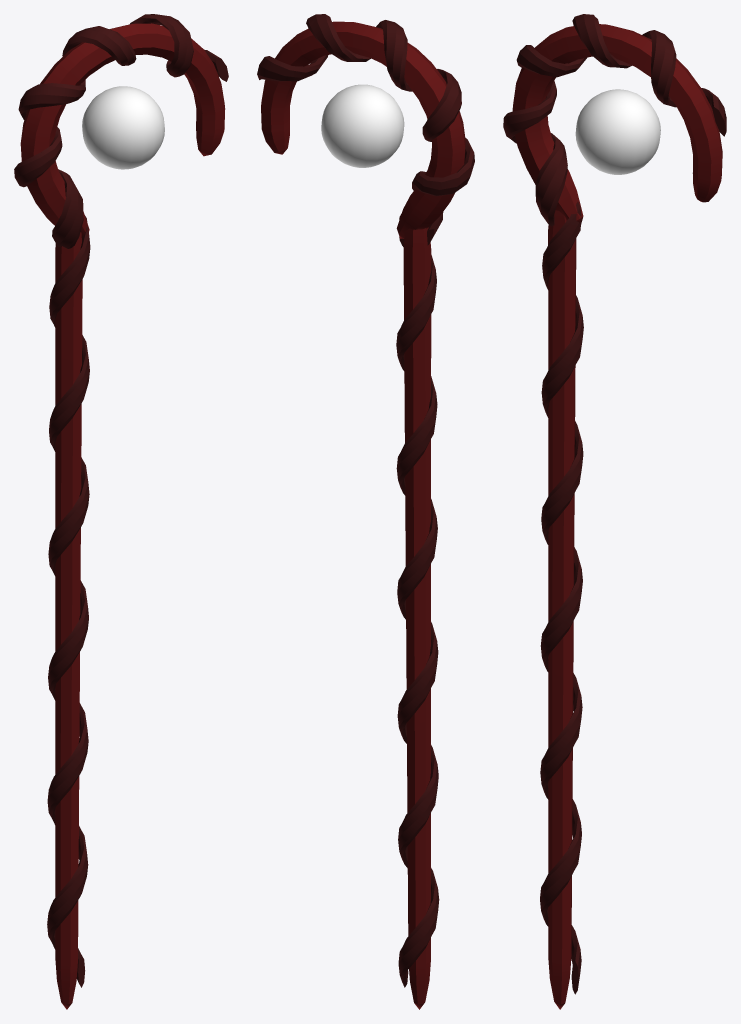
Rendered from wand.obj.
3 views of the same model, side by side, from view 1: azimuth 30°, elevation 25°; view 2: azimuth 150°, elevation 25°; view 3: azimuth 330°, elevation 25° (orthographic). The views are drawn at different scales.
Bounding box in the file's own units: 1.36 × 5.93 × 0.4598.
